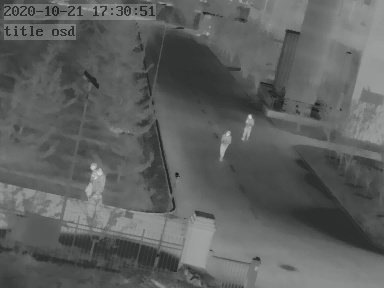person: (82, 163, 103, 202), (218, 128, 230, 161), (241, 110, 254, 139)
